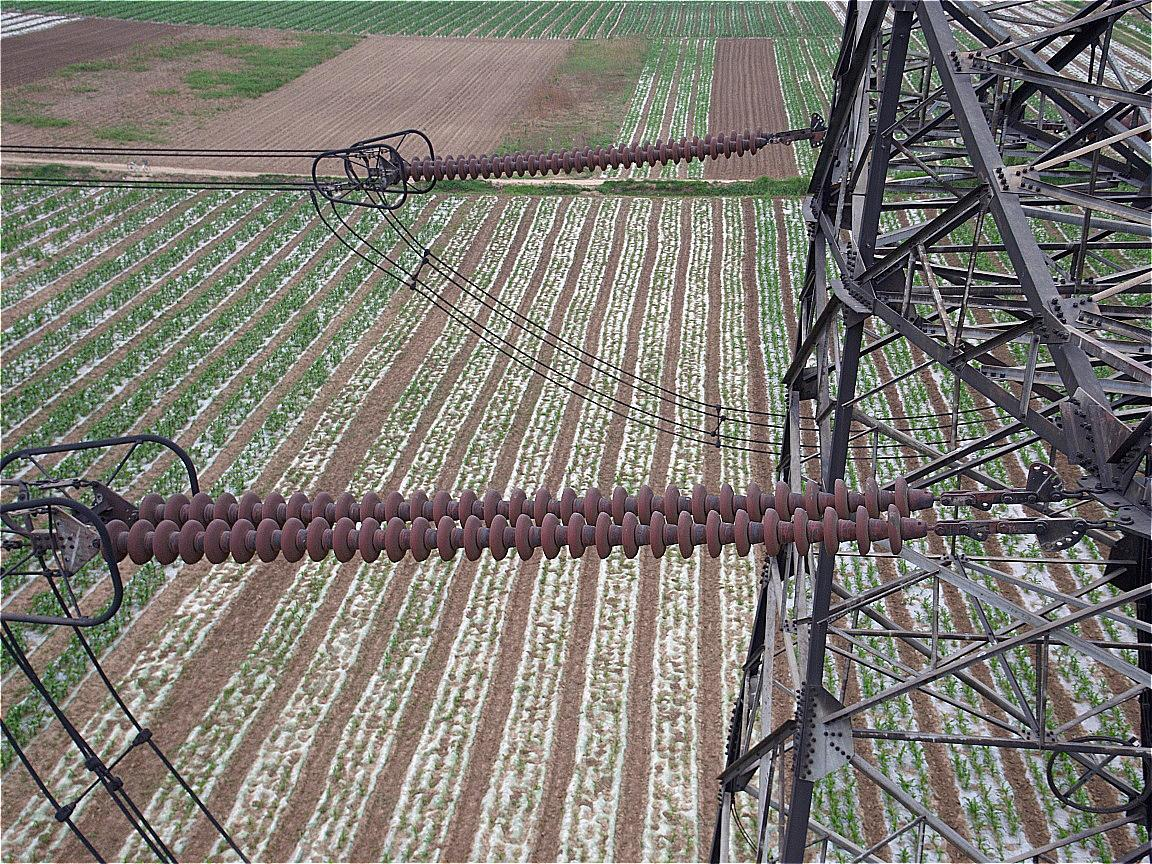insultor1: (96, 477, 935, 566), (410, 124, 765, 184)
